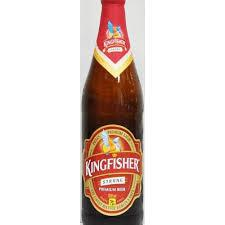beer: (79, 1, 145, 224)
